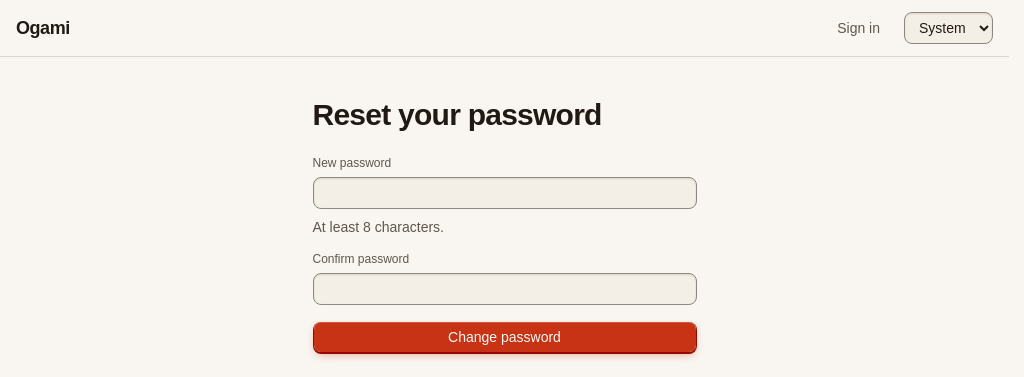
ResetPasswordPage › shows the invalid link state when the API refuses the token
The width and height of the screenshot is (1024, 377).
Expected: the heading "Reset your password" is shown, top-left (312, 98), bottom-right (602, 131)
In the password field labelled "New password": (504, 193) top-left (312, 177), bottom-right (696, 209), type "a-new-password"
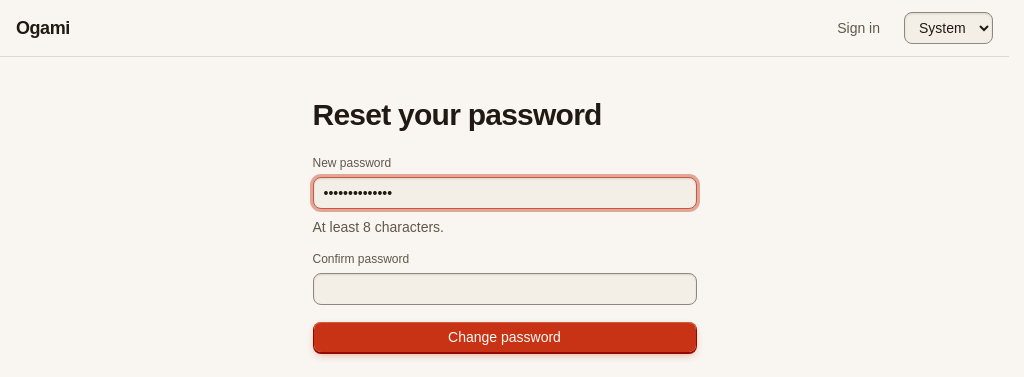
In the password field labelled "Confirm password": (504, 289) top-left (312, 273), bottom-right (696, 305), type "a-new-password"
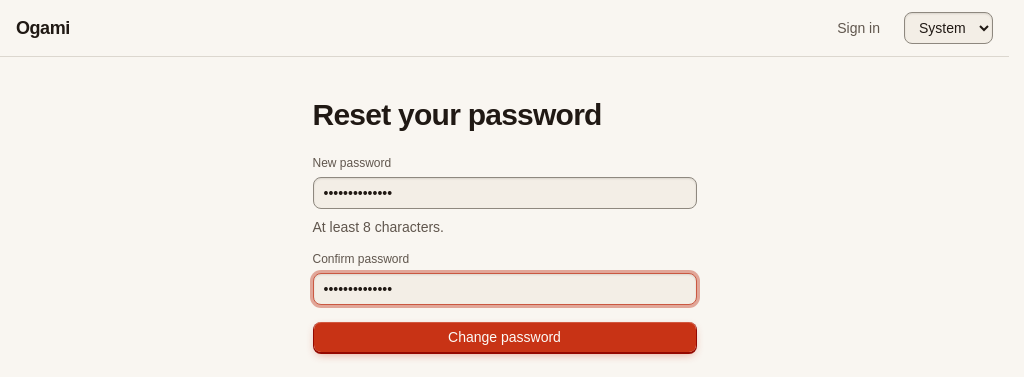
Click the button "Change password": (504, 337) top-left (312, 321), bottom-right (696, 353)
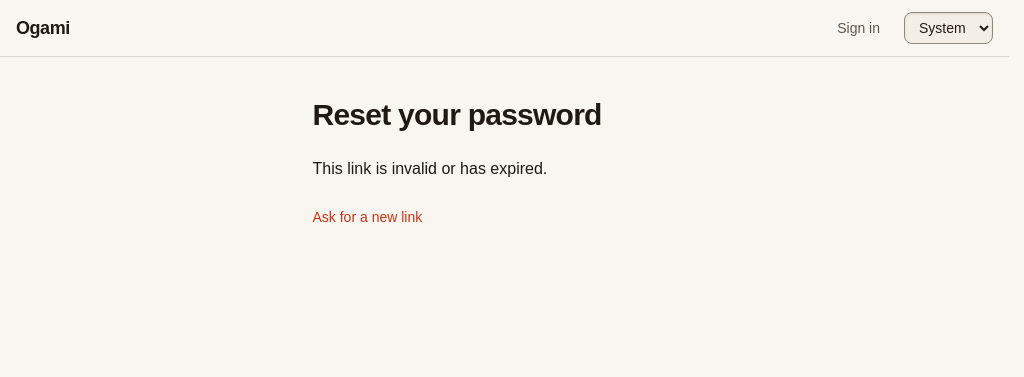
Now the text "This link is invalid or has expired." is shown, box top-left (312, 160), bottom-right (547, 177)
Now the label labelled "New password" is gone
